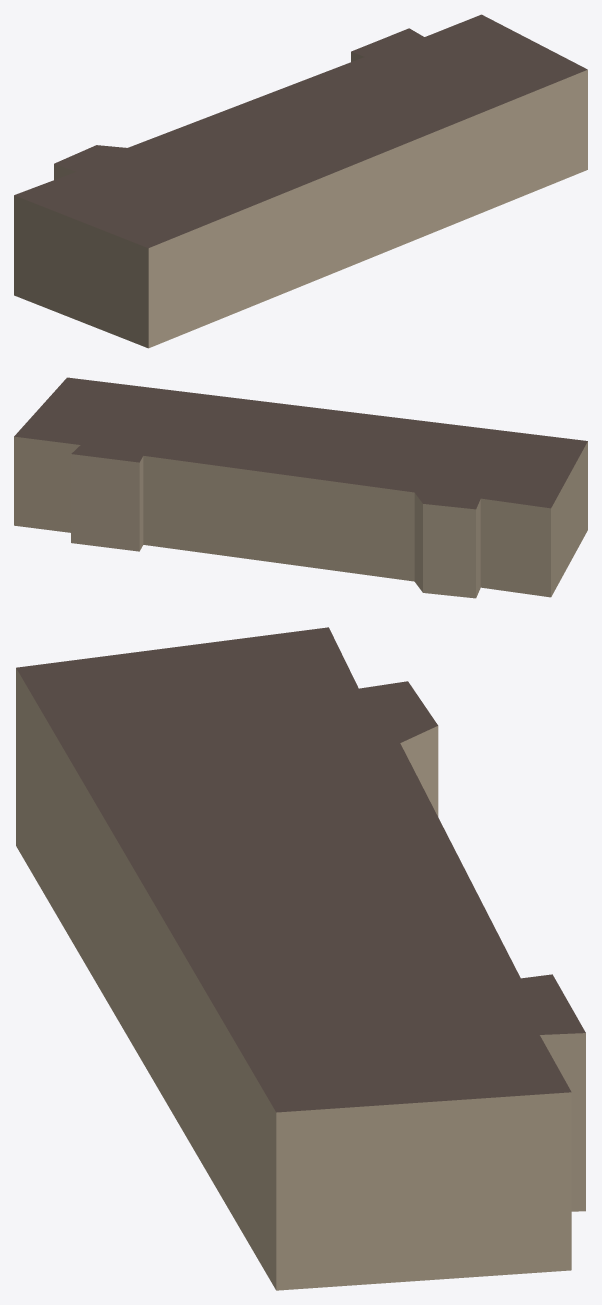
The picture shows the model from 3 angles, top to bottom: view 1: azimuth 30°, elevation 25°; view 2: azimuth 150°, elevation 25°; view 3: azimuth 270°, elevation 25°; orthographic projection. The views are drawn at different scales.
Visible parts, largest first — view 1: HP-w1512481860; view 2: HP-w1512481860; view 3: HP-w1512481860.
Part boxes in pixels (<box>): HP-w1512481860: <box>14,14,587,348</box>; HP-w1512481860: <box>14,377,587,598</box>; HP-w1512481860: <box>16,627,585,1290</box>.
Bounding box in the file's own units: 52.57 × 9 × 26.1.
